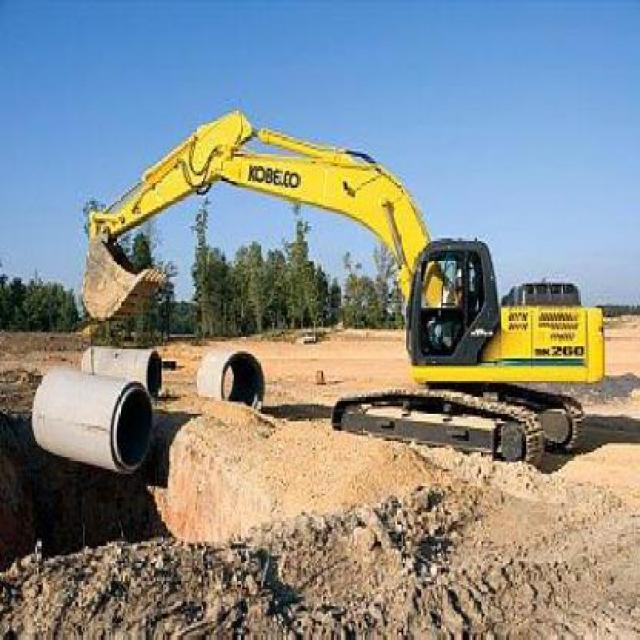Excavator: (73, 91, 609, 468)
